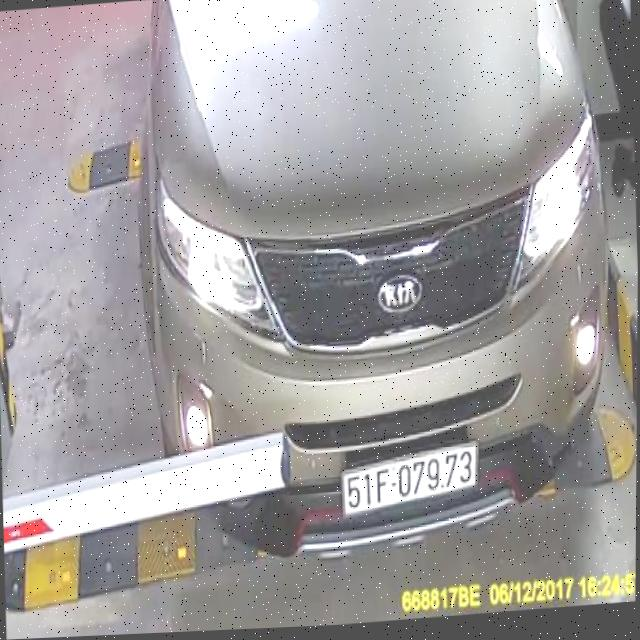car: (130, 0, 625, 572)
plate: (339, 444, 480, 520)
